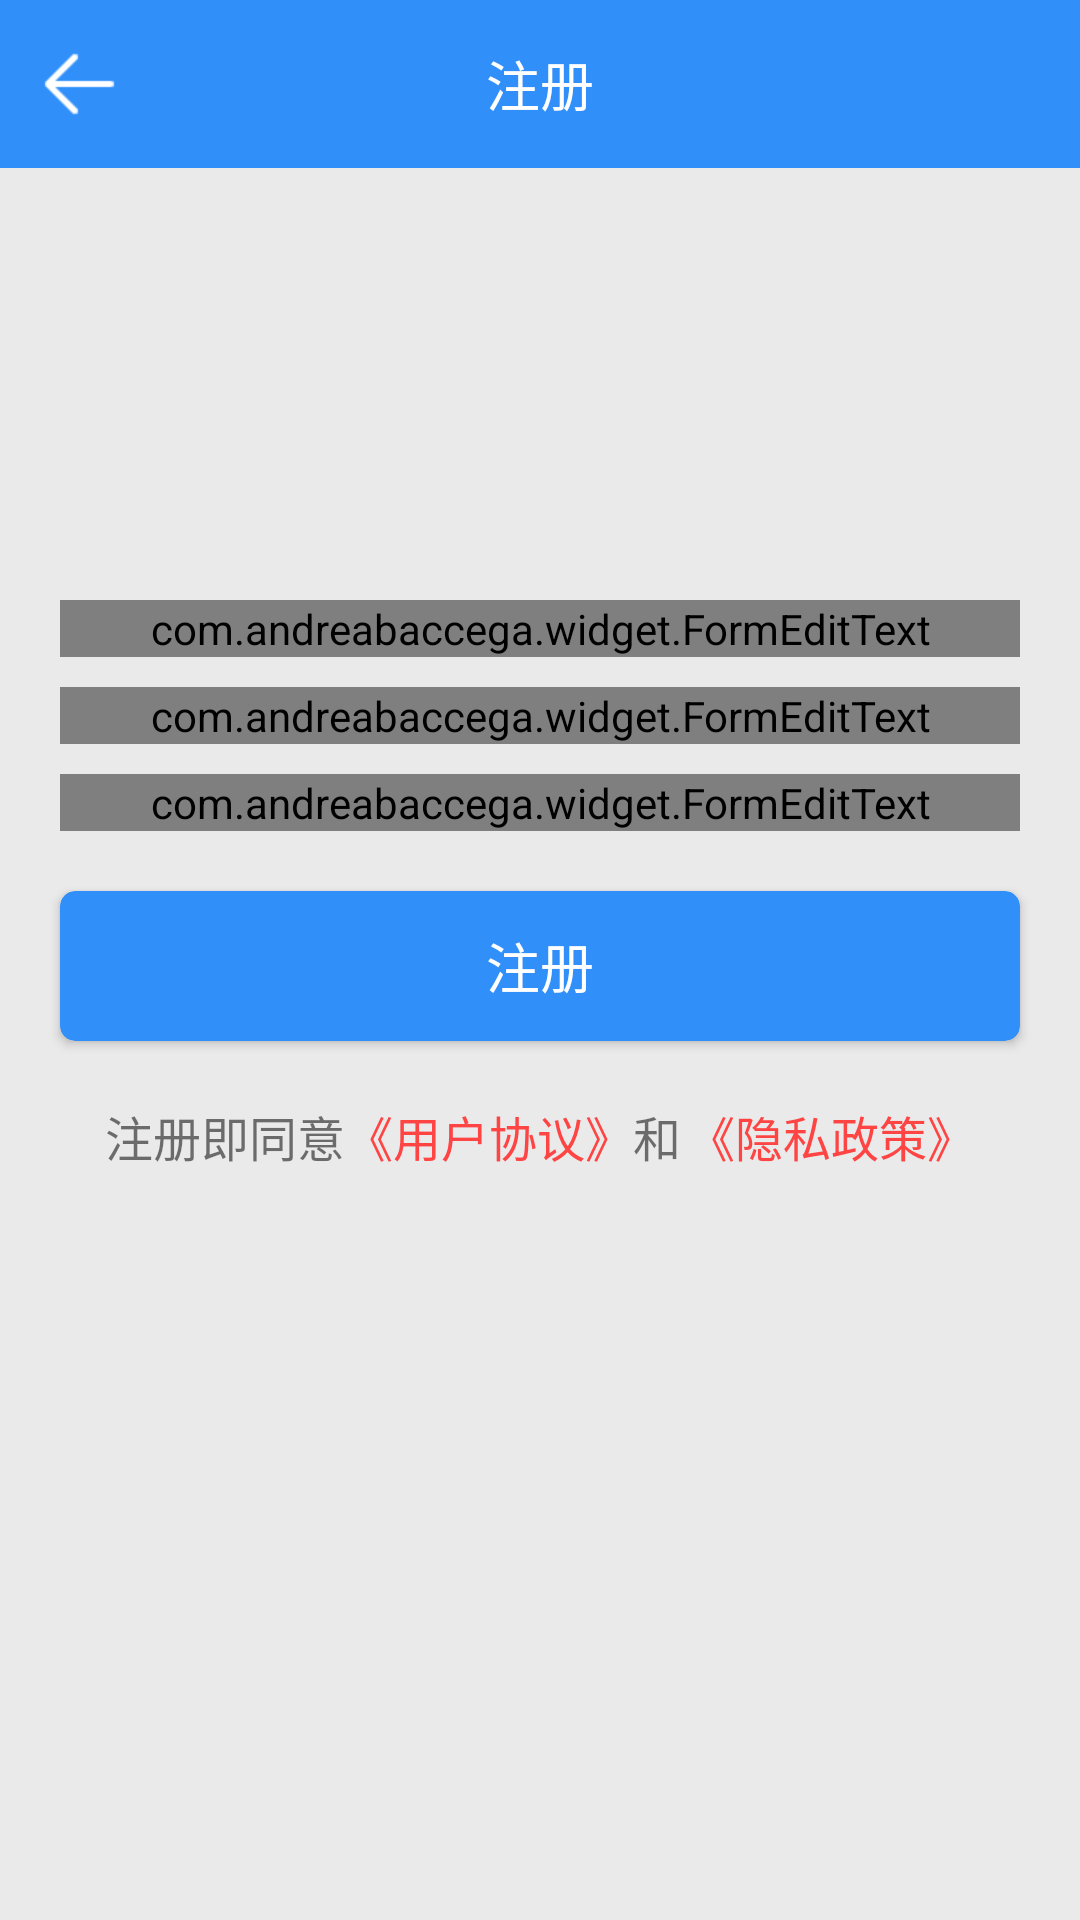

Icon click points for this 1080px×1920px phone screenshot, format (x=x, y=y):
back: (x=79, y=84)
